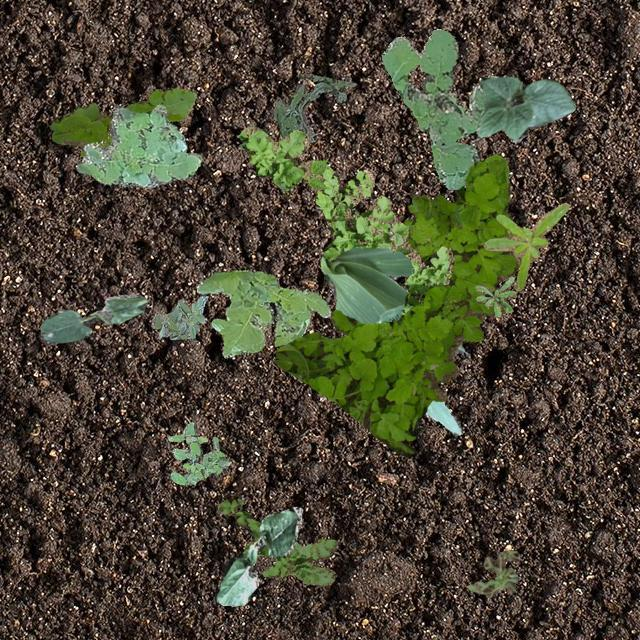crop: (318, 245, 464, 436), (214, 506, 302, 606), (476, 76, 574, 142), (39, 292, 148, 344)
weed: (272, 154, 520, 456), (238, 126, 452, 314), (380, 28, 484, 188), (196, 268, 330, 356), (217, 496, 336, 584), (76, 104, 200, 188), (49, 86, 194, 156), (482, 202, 568, 290), (272, 72, 356, 142), (166, 421, 228, 484), (150, 294, 207, 338), (466, 550, 520, 596), (411, 194, 462, 234), (474, 274, 516, 316), (402, 204, 421, 226)
